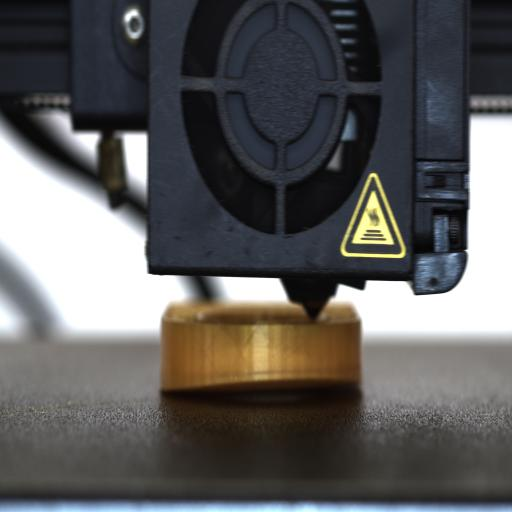warp: (162, 367, 358, 395)
